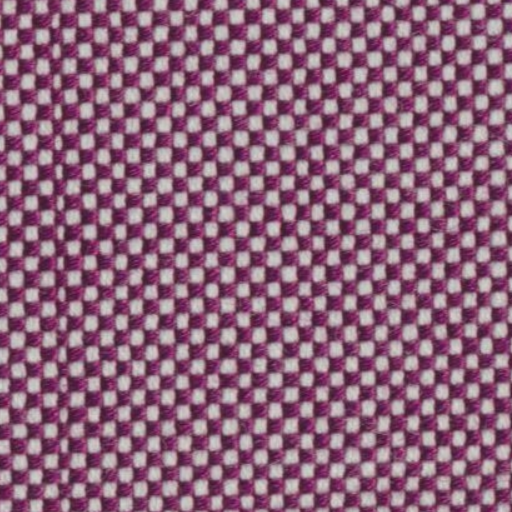TuoSha: (29, 7, 101, 502)
